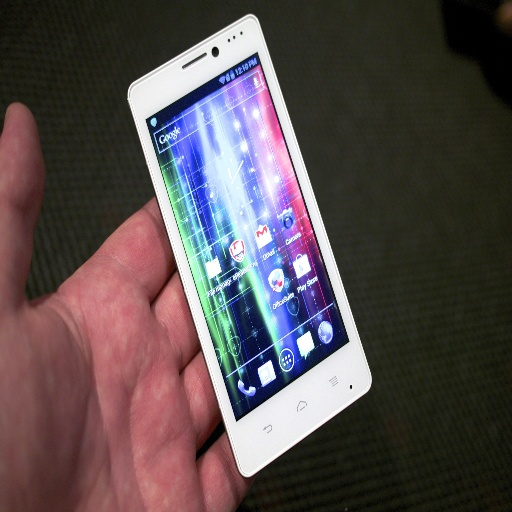hand: (0, 97, 258, 511)
